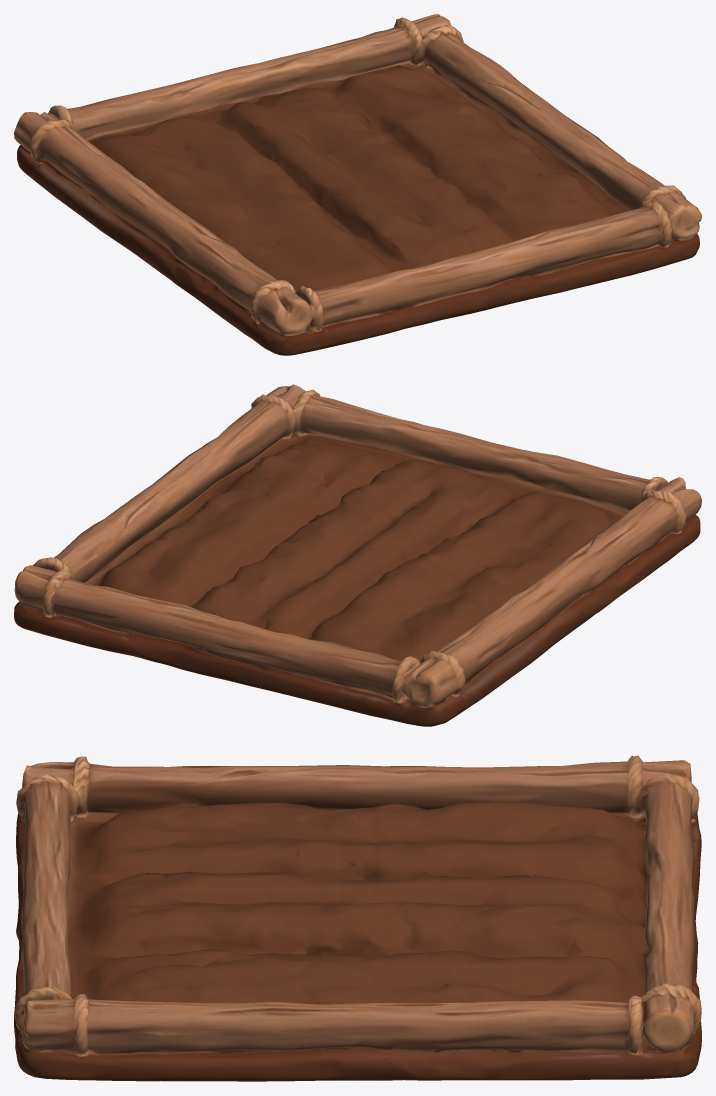
The model's file is field_plot_1k.glb.
The picture shows the model from 3 angles, top to bottom: view 1: azimuth 30°, elevation 25°; view 2: azimuth 150°, elevation 25°; view 3: azimuth 270°, elevation 25°; orthographic projection. The views are drawn at different scales.
Visible parts, largest first — view 1: tripo_node_1547a90d-ac42-45af-86b9-b064a0865b28; view 2: tripo_node_1547a90d-ac42-45af-86b9-b064a0865b28; view 3: tripo_node_1547a90d-ac42-45af-86b9-b064a0865b28.
Part boxes in pixels (<box>): tripo_node_1547a90d-ac42-45af-86b9-b064a0865b28: <box>14,14,701,355</box>; tripo_node_1547a90d-ac42-45af-86b9-b064a0865b28: <box>14,384,701,726</box>; tripo_node_1547a90d-ac42-45af-86b9-b064a0865b28: <box>14,755,701,1081</box>.
Size of the model in its own units: 0.8978 by 0.1183 by 0.9787.
1 material, 1 textured.
